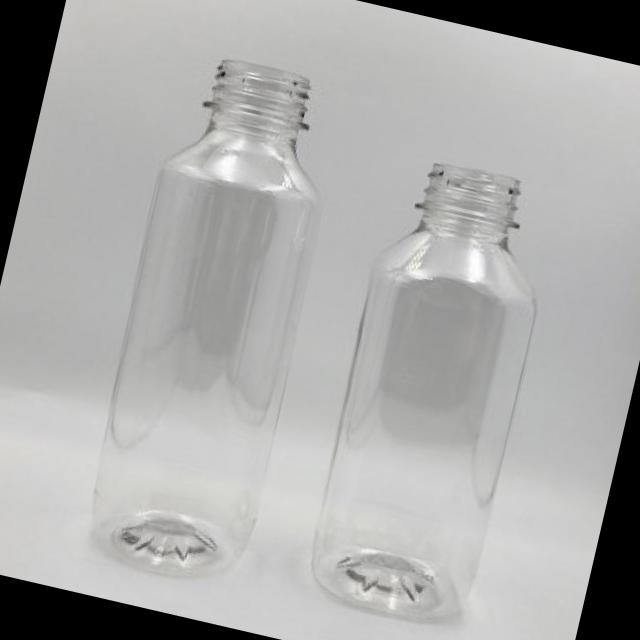plastic_bottle: (68, 47, 356, 593), (295, 149, 565, 637)
